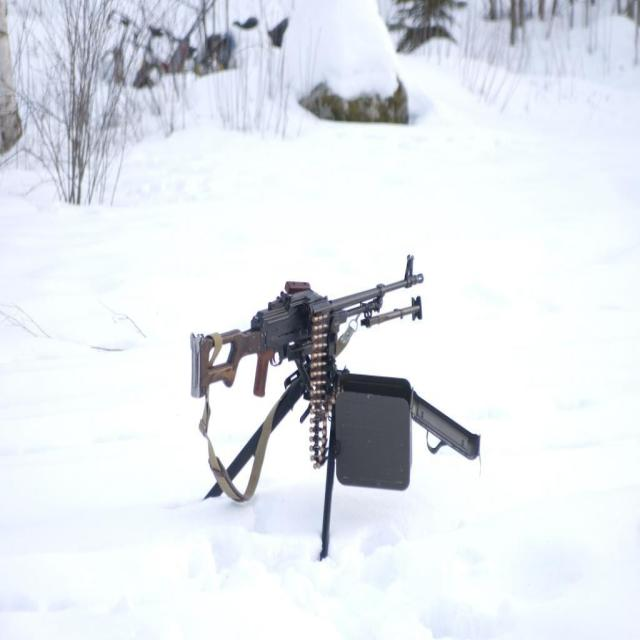firearm: (192, 254, 424, 398)
